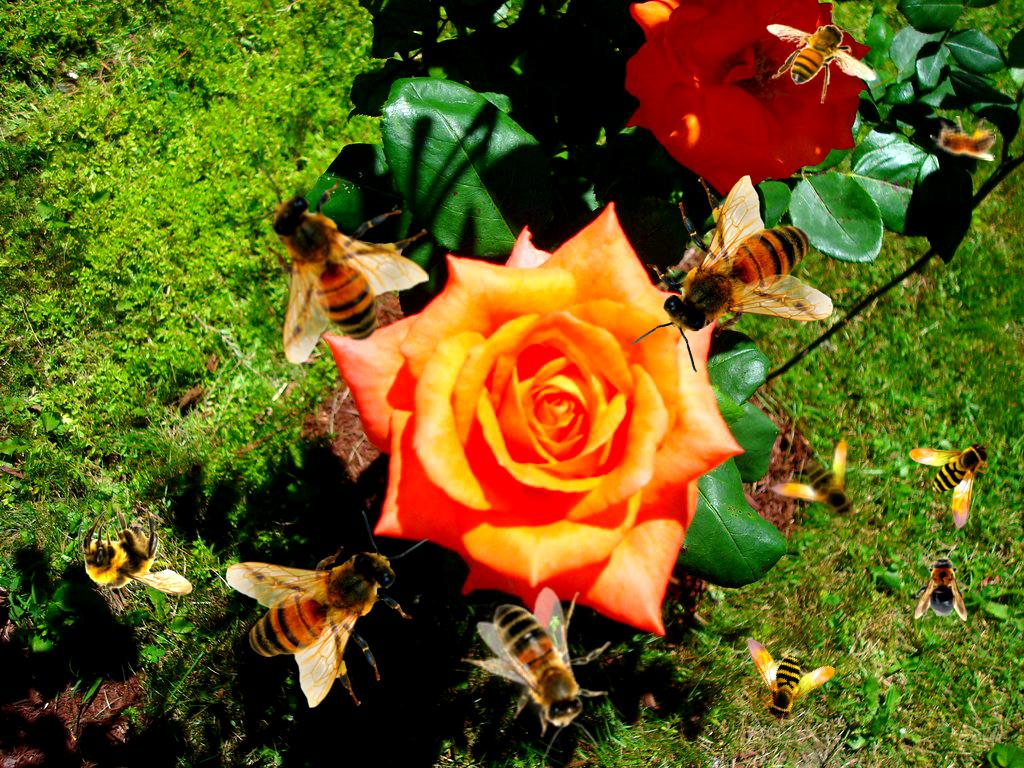Bee: (437, 558, 654, 768), (630, 175, 834, 374), (225, 509, 429, 708), (230, 161, 429, 365), (723, 608, 843, 728), (78, 507, 193, 614), (766, 10, 877, 104), (768, 438, 856, 520), (909, 441, 991, 529), (915, 553, 967, 621), (930, 116, 996, 161)
